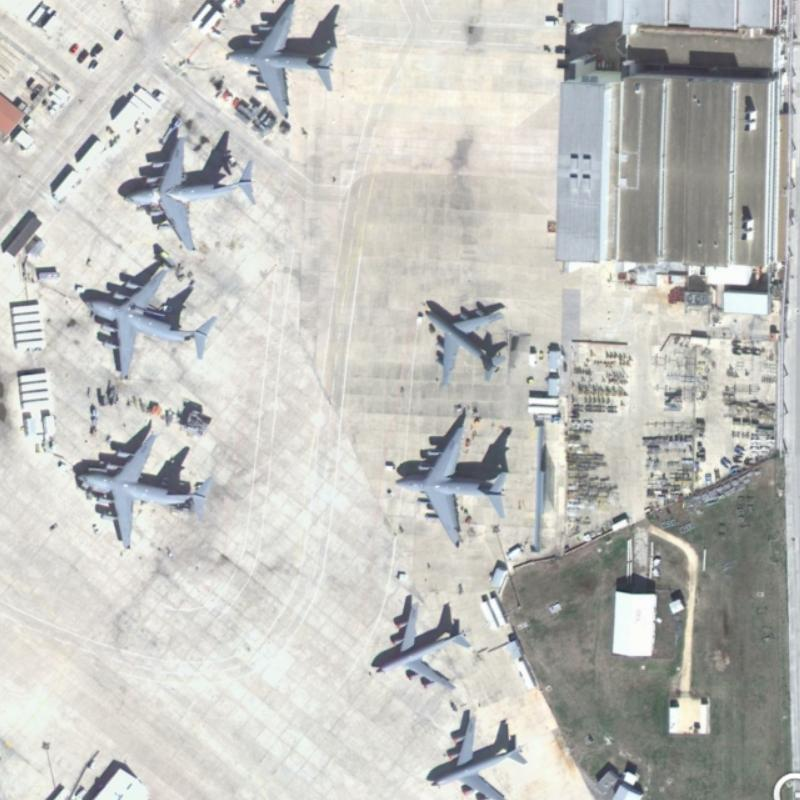A14: (365, 588, 472, 695), (420, 703, 530, 798), (412, 299, 515, 386)
A3: (70, 416, 216, 549), (119, 125, 261, 256), (74, 261, 217, 385), (388, 413, 515, 552), (214, 0, 342, 124)
